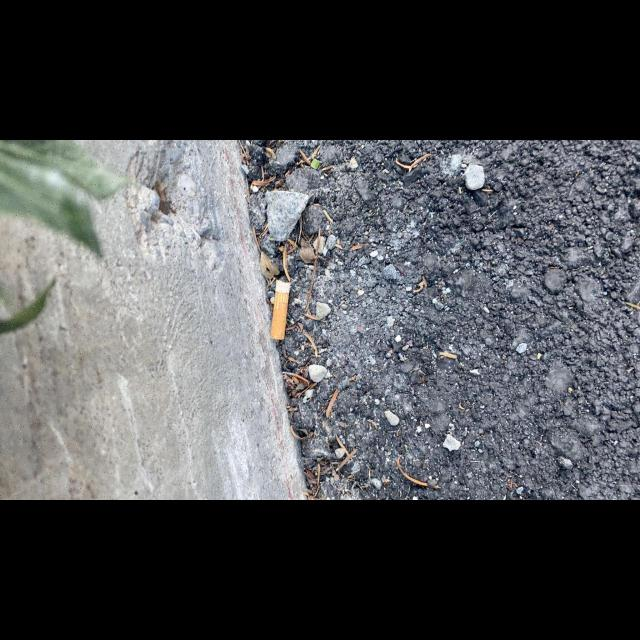cigarette: (270, 279, 290, 340)
